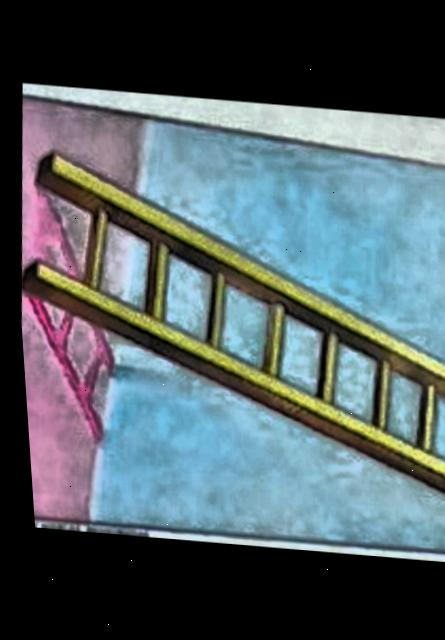La Escalera: (16, 98, 445, 557)
